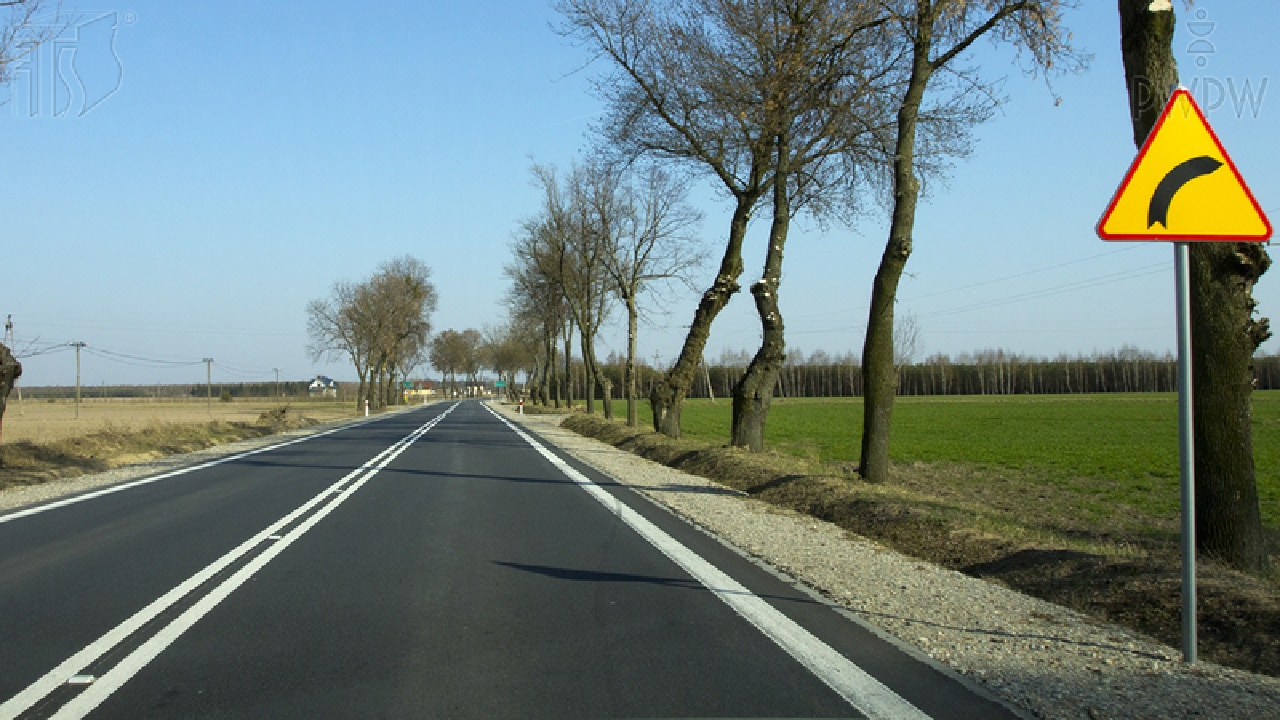A1: (1084, 78, 1271, 242)
